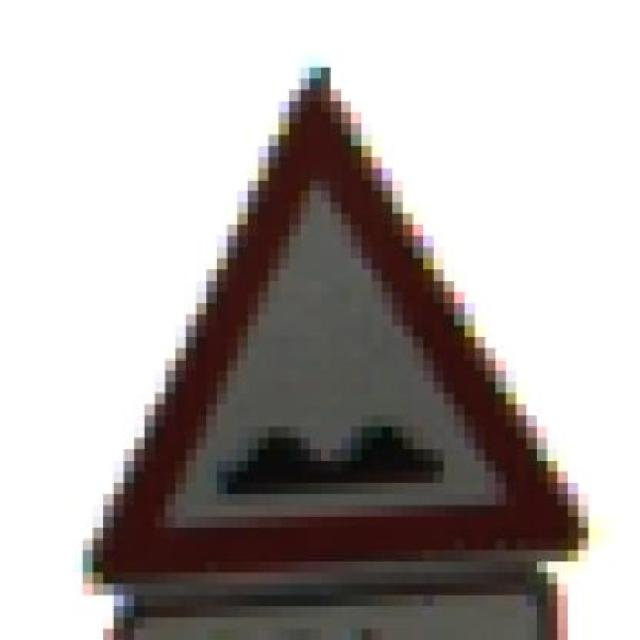Uneven Road: (51, 67, 609, 584)
